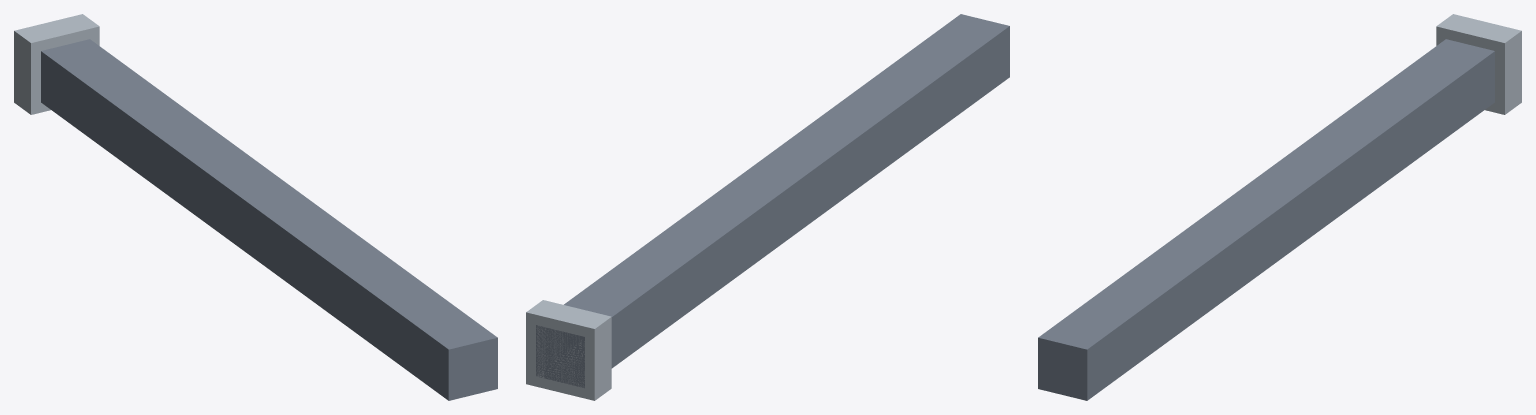
The model's file is steel_beam.glb.
The picture shows the model from 3 angles, left to right: view 1: azimuth 30°, elevation 25°; view 2: azimuth 150°, elevation 25°; view 3: azimuth 330°, elevation 25°; orthographic projection.
Visible parts, largest first — view 1: column_0, foot_1; view 2: column_0, foot_1; view 3: column_0, foot_1.
Part boxes in pixels (x1=…): column_0: x1=41, y1=39, x2=497, y2=400; foot_1: x1=14, y1=14, x2=99, y2=114; column_0: x1=536, y1=14, x2=1009, y2=388; foot_1: x1=526, y1=300, x2=611, y2=400; column_0: x1=1038, y1=39, x2=1494, y2=400; foot_1: x1=1436, y1=14, x2=1521, y2=114.
Bounding box in the file's own units: 0.28 × 0.28 × 3.
